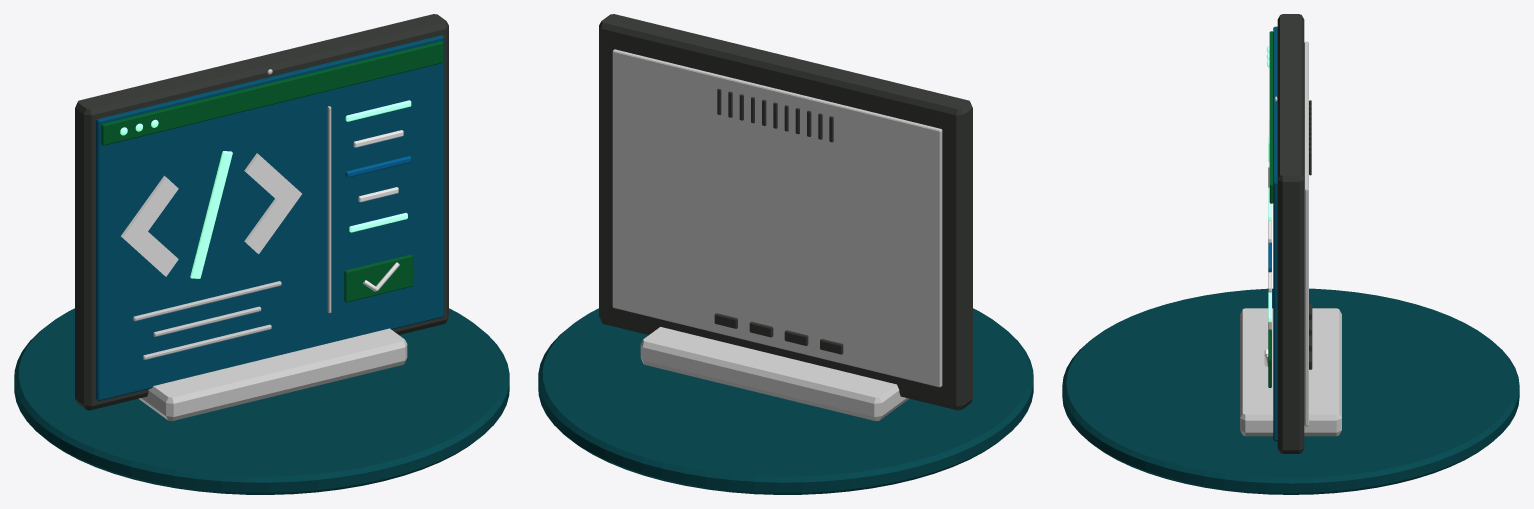
The model's file is software.glb.
3 renders of one model, left to right at view 1: azimuth 30°, elevation 25°; view 2: azimuth 150°, elevation 25°; view 3: azimuth 270°, elevation 25°, orthographic. The views are drawn at different scales.
Parts seen in each view (by area): view 1: body, pedestal; view 2: body, pedestal; view 3: pedestal, body.
Boxes of the visible parts, box(x1,y1,x2,y2) form: body: box(75, 14, 448, 420); pedestal: box(14, 308, 509, 494); body: box(599, 14, 972, 420); pedestal: box(538, 308, 1033, 494); pedestal: box(1062, 288, 1519, 494); body: box(1240, 14, 1341, 453).
Size of the model in its own units: 4.4 by 3.24 by 4.4.
